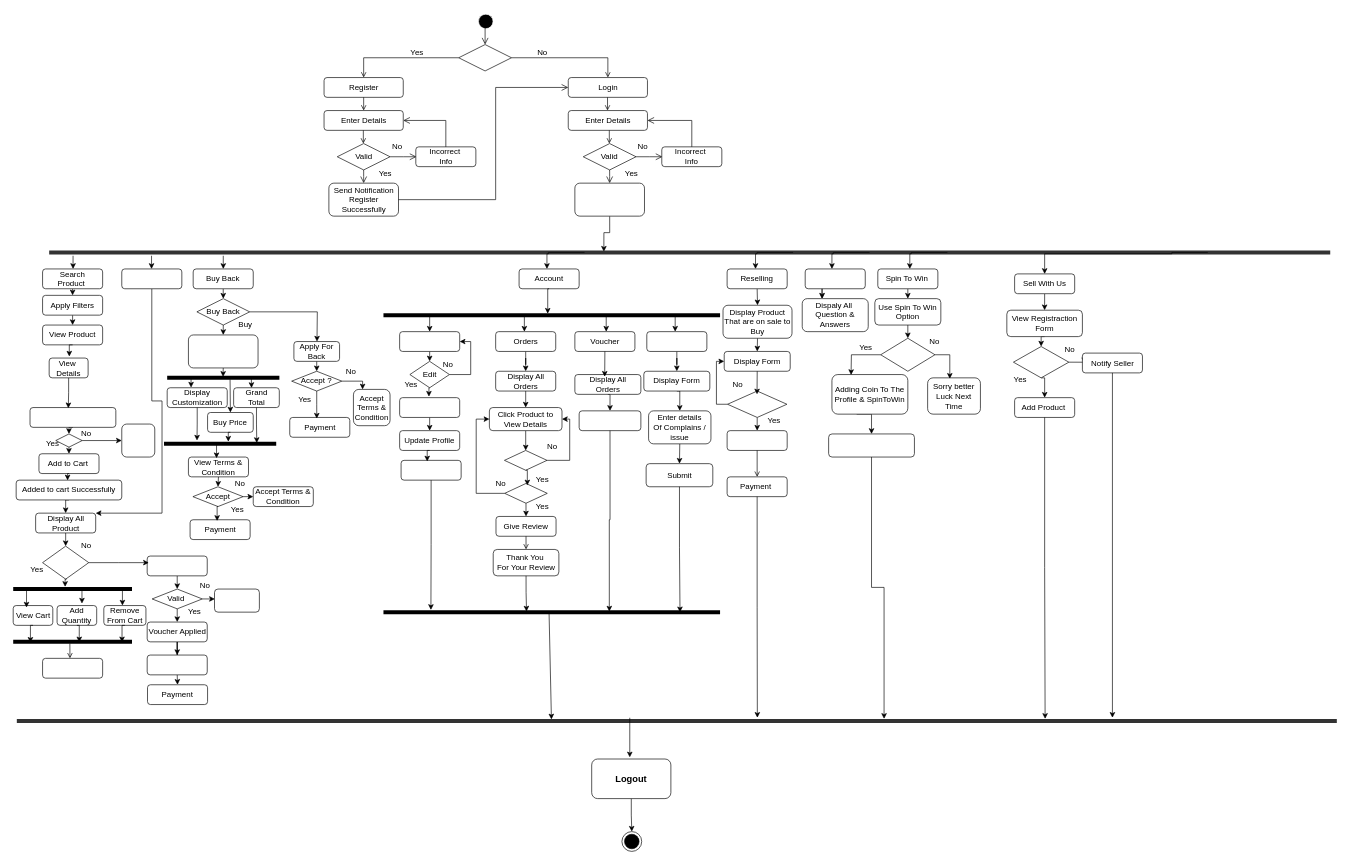
Image size: 1350x863. Some labels were removed from this diagram. Each missing label, with the box of its shape:
Approve ?: (1013, 346, 1069, 378)
Calculate Discount: (147, 654, 207, 675)
Check for Availability: (29, 407, 116, 427)
Click Buy: (726, 430, 787, 450)
Close the Option: (828, 433, 914, 457)
Details: (504, 450, 547, 470)
Display Expiry Date: (578, 410, 641, 431)
Edit Profile: (399, 397, 460, 417)
Enter Coupen Code: (147, 555, 207, 576)
FAQ: (805, 268, 865, 289)
Get Coin ?: (880, 338, 935, 371)
Go to Cart: (121, 268, 182, 289)
Help Center: (646, 331, 707, 351)
New User ?: (458, 44, 512, 71)
Recalculate Total Price: (42, 658, 103, 678)
Review: (504, 483, 547, 503)
Select Customization Option: (188, 334, 258, 368)
Send Notification Login Successfully: (574, 182, 644, 216)
Sorry Not Valid: (214, 588, 259, 612)
Update Successfully: (400, 460, 461, 480)
View Other Product: (121, 423, 155, 457)
View Profile: (399, 331, 460, 351)
Wants to Buy: (727, 390, 787, 417)
Wants to Edit: (42, 545, 89, 579)
